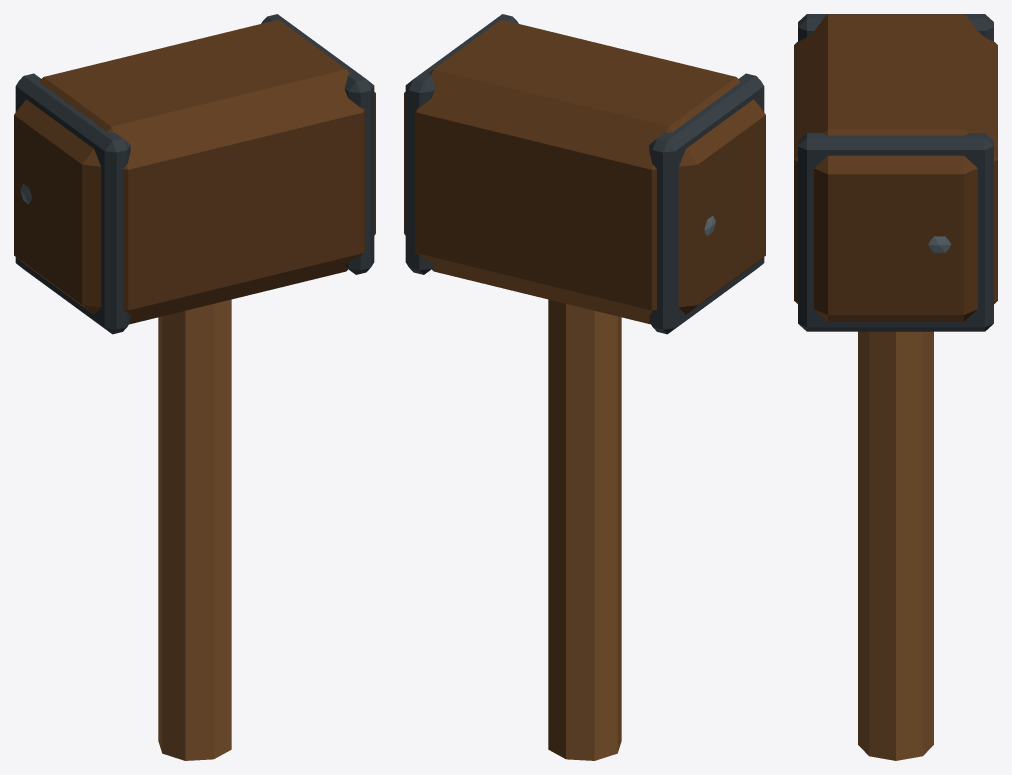
File: Mallet.glb
The picture shows the model from 3 angles, left to right: view 1: azimuth 30°, elevation 25°; view 2: azimuth 150°, elevation 25°; view 3: azimuth 270°, elevation 25°; orthographic projection.
Parts seen in each view (by area): view 1: Sculpture; view 2: Sculpture; view 3: Sculpture.
Boxes of the visible parts, x1,y1,x2,y2 form: Sculpture: (14, 14, 375, 760); Sculpture: (404, 14, 765, 760); Sculpture: (794, 14, 997, 760).
Size of the model in its own units: 0.354 by 0.765 by 0.21.
